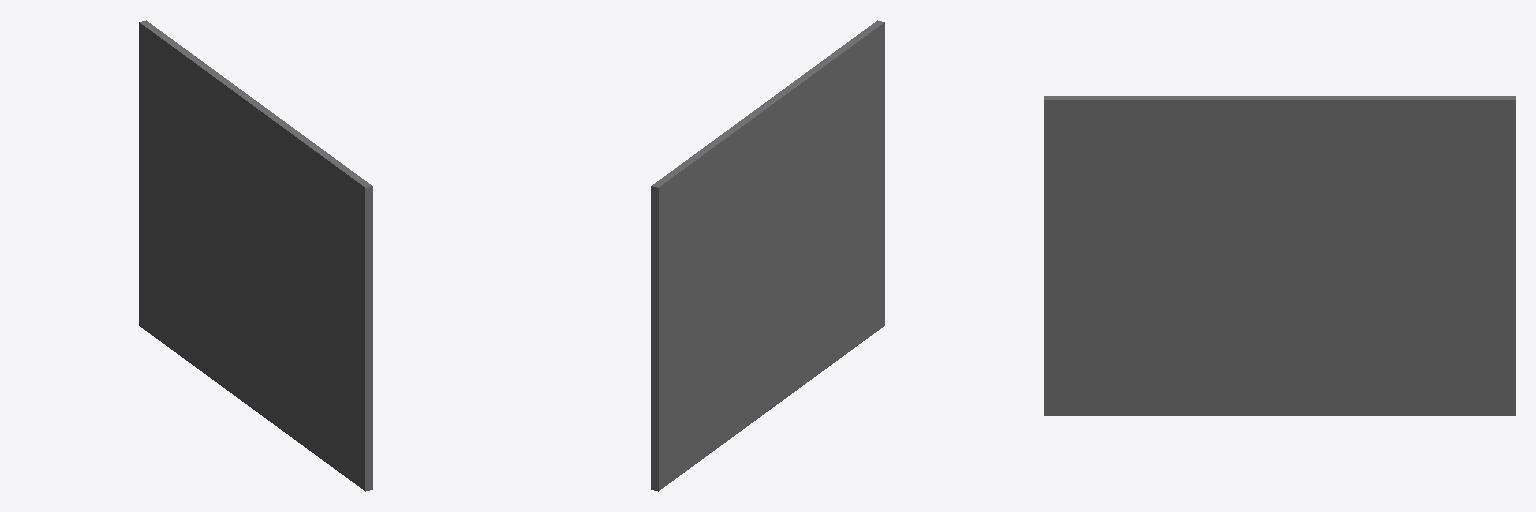
The robot description file, URDF, robot "slab3":
<robot name="slab3">
  <link name="slab3">

    <inertial>
      <origin xyz="0 0 0" />
      <mass value="0.1" />
      <inertia  ixx="0.00003375" ixy="0.0"  ixz="0.0"  iyy="0.00003375"  iyz="0.0"  izz="0.00003375" />
    </inertial>

    <visual>
      <origin xyz="0 0 0"/>
      <geometry>
        <box size="0.005 0.27 0.2" />
      </geometry>
      <material name="white">
        <color rgba="0.5 0.5 0.5 1.0"/>
      </material>
    </visual>

    <collision>
      <origin xyz="0 0 0"/>
      <geometry>
        <box size="0.005 0.27 0.2" />
      </geometry>
    </collision>
  </link>
</robot>

--- What the picture shows (computed from the rendered views, not written in the file) ---
Views: 3 orthographic renders of the robot side by side, from view 1: azimuth 30°, elevation 25°; view 2: azimuth 150°, elevation 25°; view 3: azimuth 270°, elevation 25°.
Robot: slab3 — 1 links, 0 joints (none); root link slab3; default pose: every joint at zero.
Visible links, largest first — view 1: slab3; view 2: slab3; view 3: slab3.
Link boxes in pixels (left/top/right/bottom): slab3: left=139, top=20, right=372, bottom=491; slab3: left=651, top=20, right=884, bottom=491; slab3: left=1044, top=96, right=1515, bottom=415.
Size in the robot's own frame: 0.005 by 0.27 by 0.2 metres.
Geometry: primitives only (box / cylinder / sphere), no mesh files.